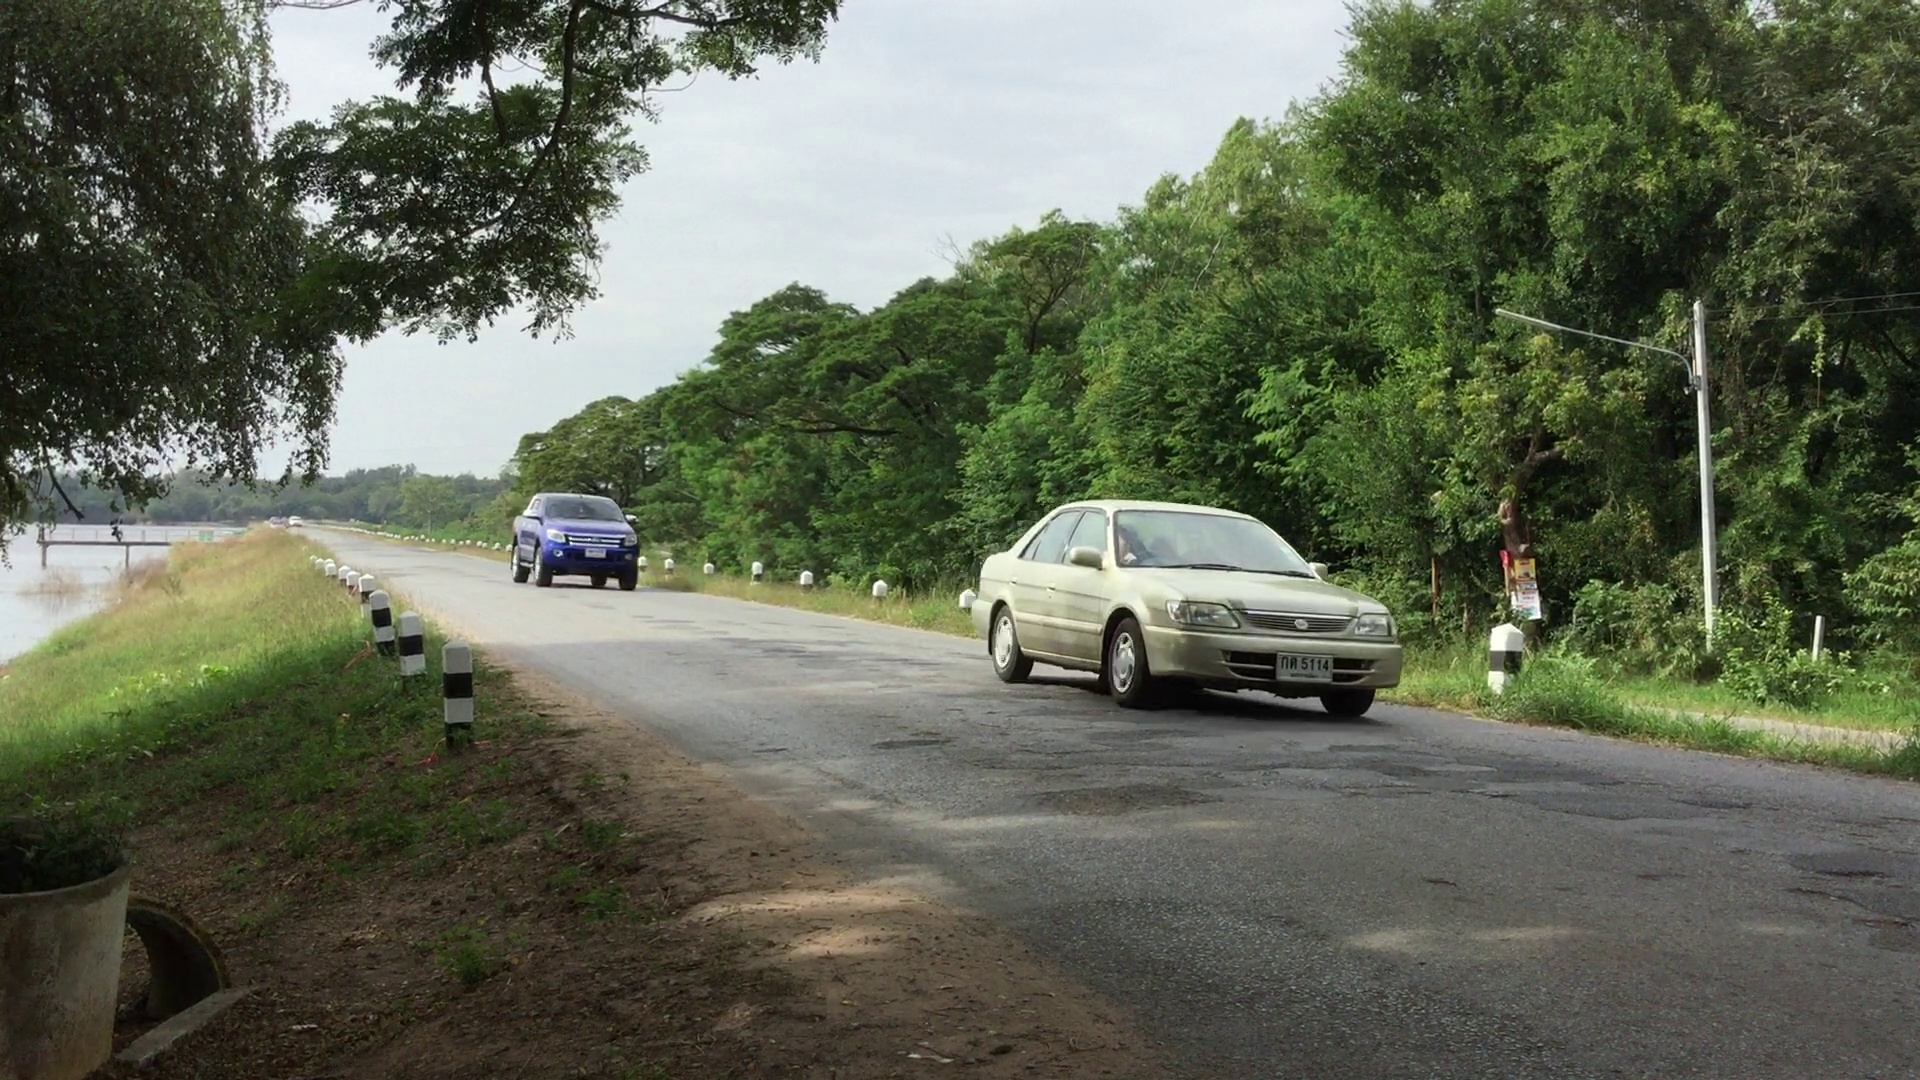car: (965, 498, 1393, 705), (508, 491, 642, 588)
